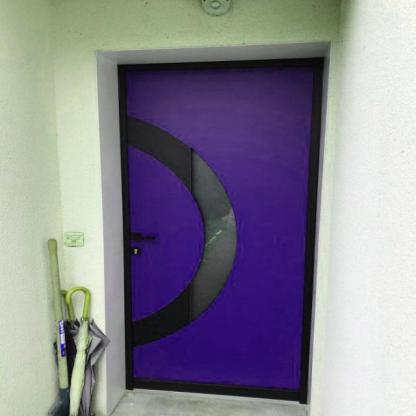door: (115, 46, 338, 404)
